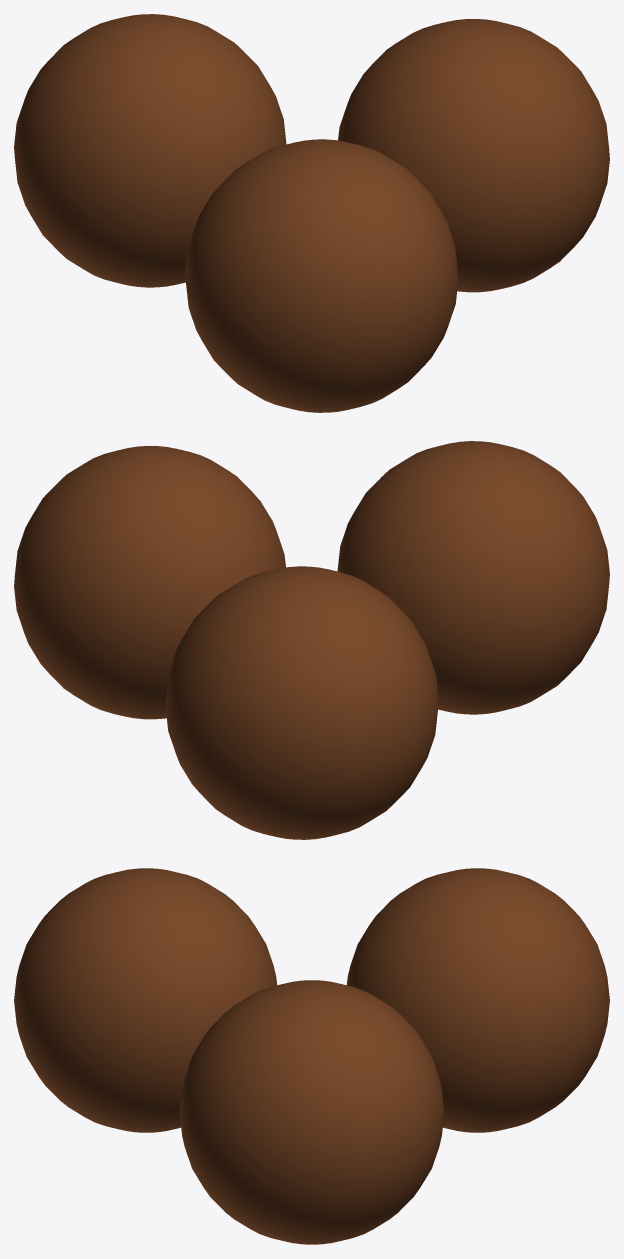
The model's file is KneadedClay3.fbx.
3 renders of one model, top to bottom at view 1: azimuth 30°, elevation 25°; view 2: azimuth 150°, elevation 25°; view 3: azimuth 270°, elevation 25°, orthographic. The views are drawn at different scales.
Parts seen in each view (by area): view 1: Sphere, Sphere.001, Sphere.002; view 2: Sphere.001, Sphere, Sphere.002; view 3: Sphere.002, Sphere, Sphere.001.
Part boxes in pixels (box(x1,y1,x2,y2)): Sphere: box(185, 139, 458, 412); Sphere.001: box(14, 14, 286, 287); Sphere.002: box(338, 19, 609, 292); Sphere.001: box(165, 566, 438, 839); Sphere: box(337, 441, 609, 714); Sphere.002: box(14, 446, 285, 719); Sphere.002: box(179, 980, 444, 1244); Sphere: box(14, 868, 276, 1132); Sphere.001: box(347, 868, 609, 1132).
Size of the model in its own units: 400 by 200 by 450.
